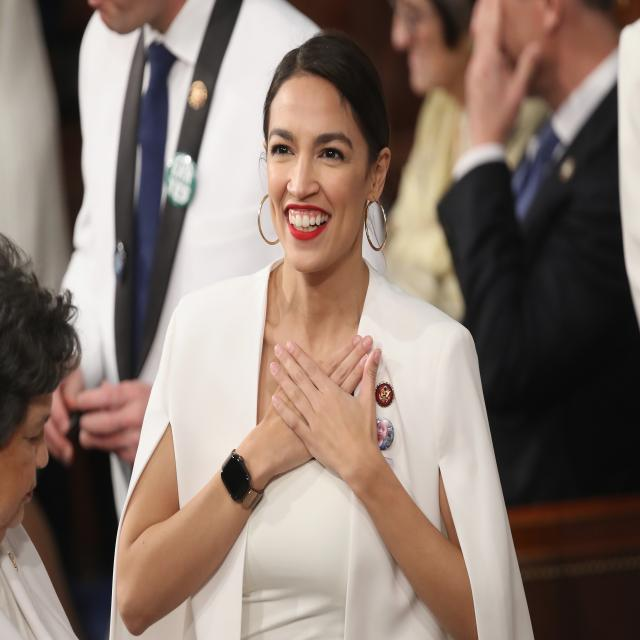human: (93, 50, 537, 640)
